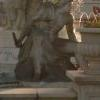Statue: (10, 2, 85, 77)
